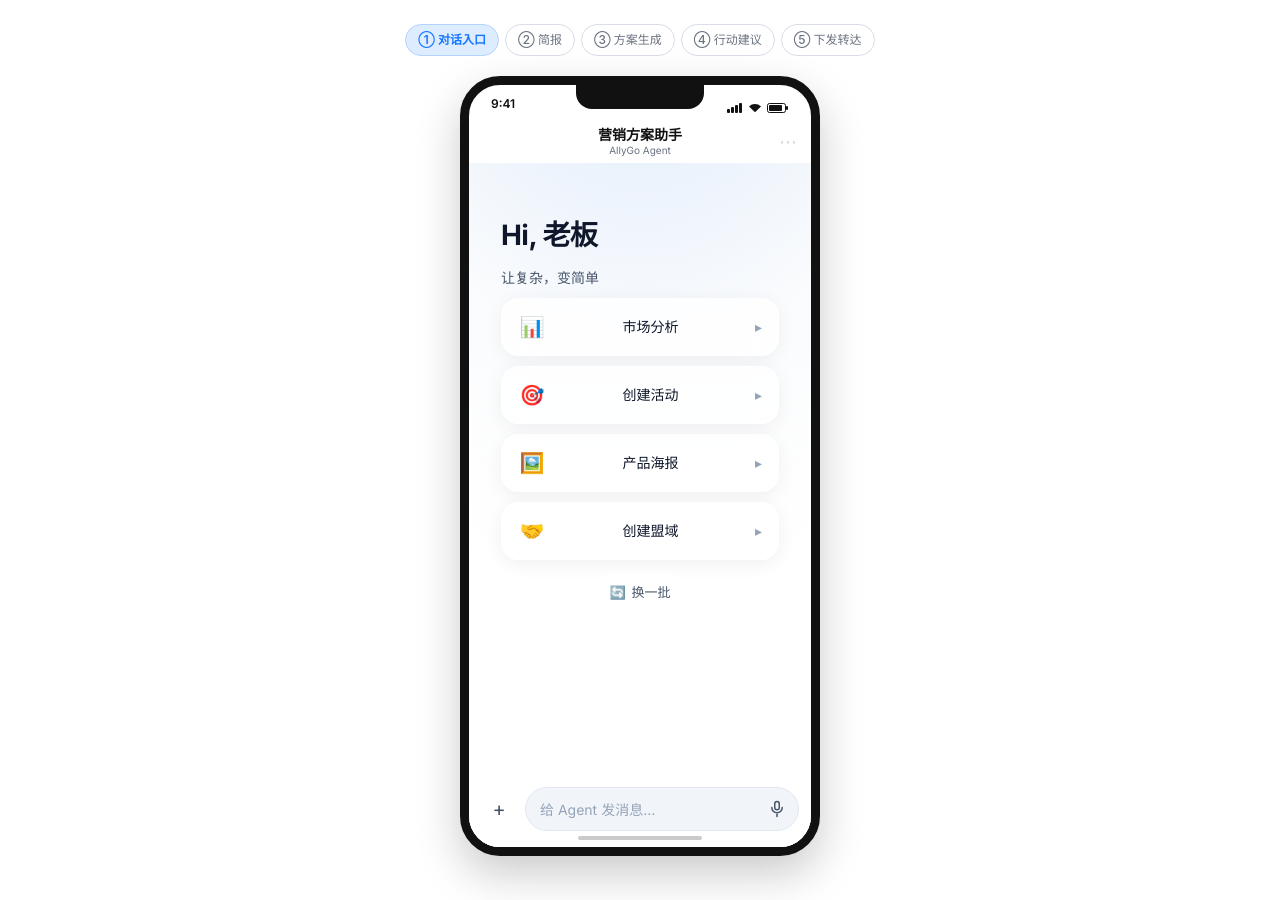
Mobile chat UI redesign › 点击面板外部关闭面板
Click the button named "展开菜单": (499, 809) [481,791,517,827]
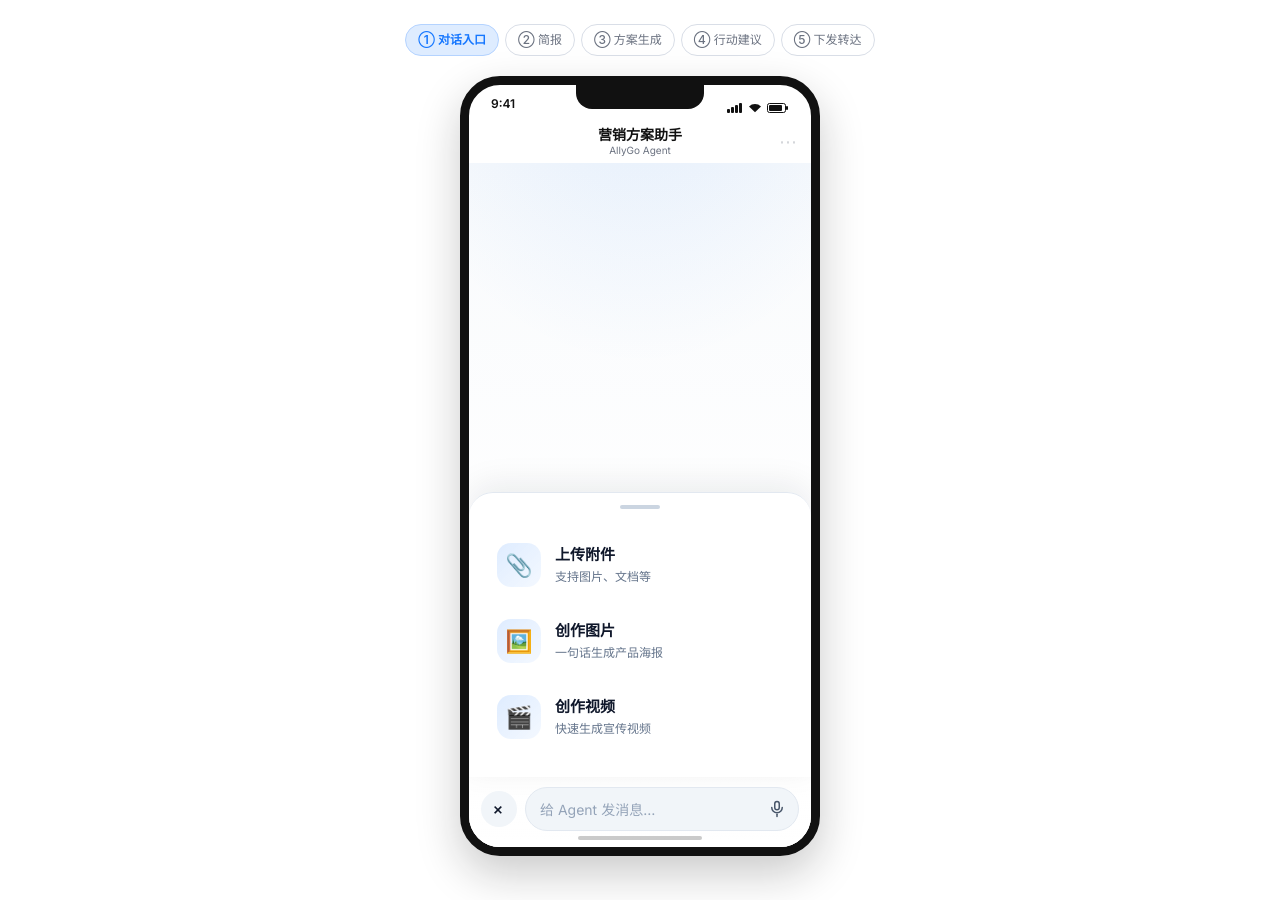
Expected: the text "上传附件" is shown, [555,545,615,564]
Click the element with class "cap-backdrop": (640, 505) [469,163,811,847]
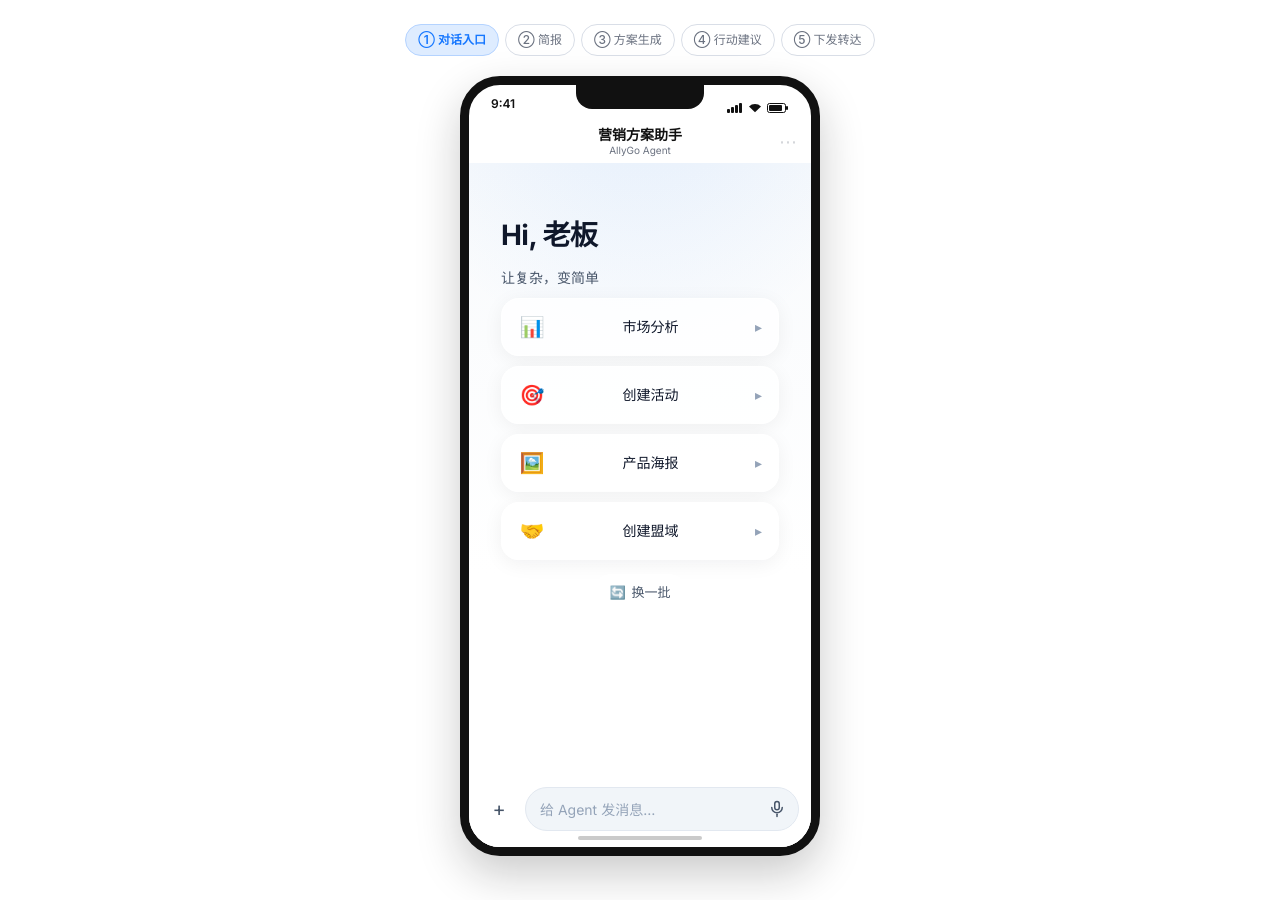
Expected: the button "上传附件" is gone
